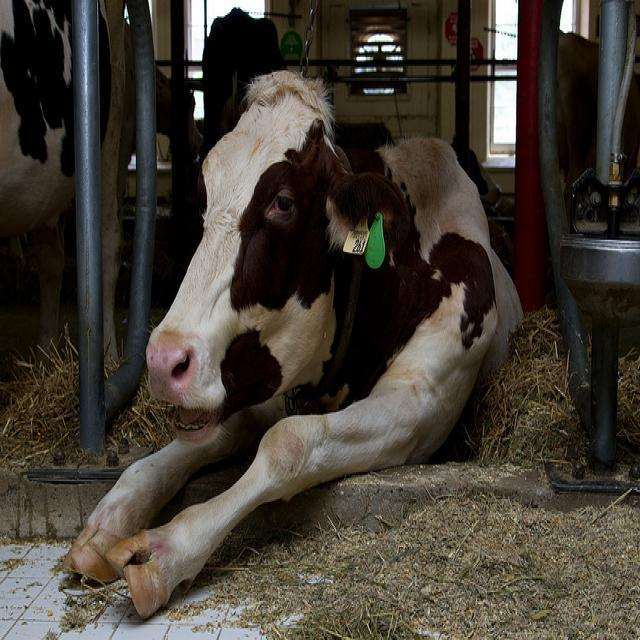cow: (59, 69, 523, 617), (0, 0, 124, 375), (200, 6, 285, 153)
